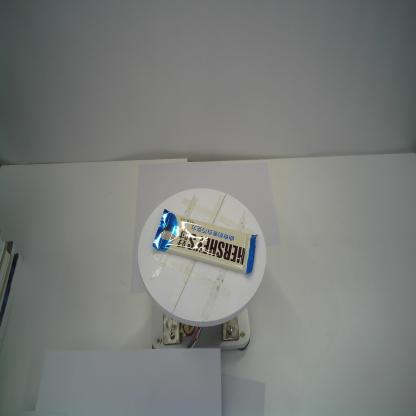Chocolate: (150, 208, 260, 278)
